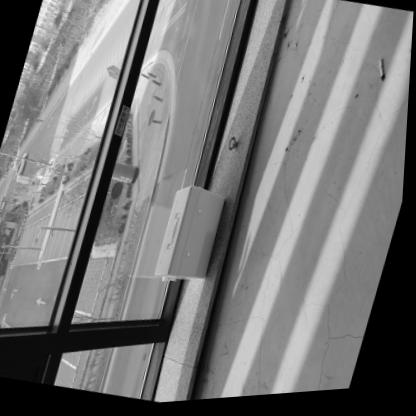DDL: (156, 185, 231, 289)
